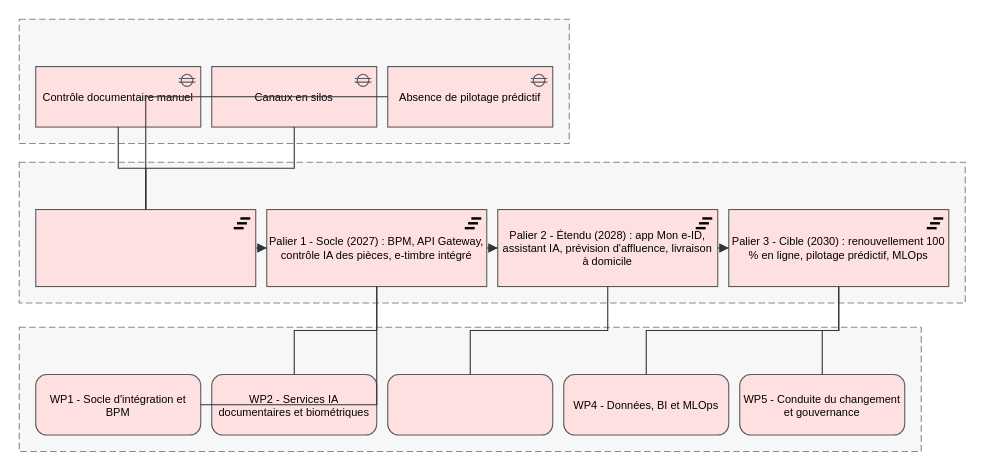
The diagram is 985 pixels wide and 471 high, and some of its shapes have lost their labels. The box of each missing label's shape, as (x1, y1, x2, y2) in pixels:
Chantiers: (18, 326, 921, 452)
Palier 0 - Existant (2026): (35, 208, 256, 287)
Paliers: (18, 161, 965, 303)
WP3 - Canaux citoyens (portail, mobile, assistant): (387, 373, 553, 435)
Écarts constatés: (18, 18, 569, 144)
